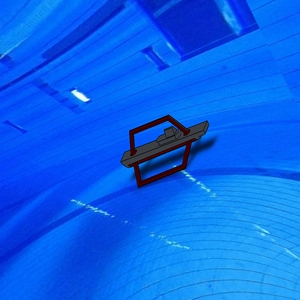submarine: (116, 112, 214, 191)
